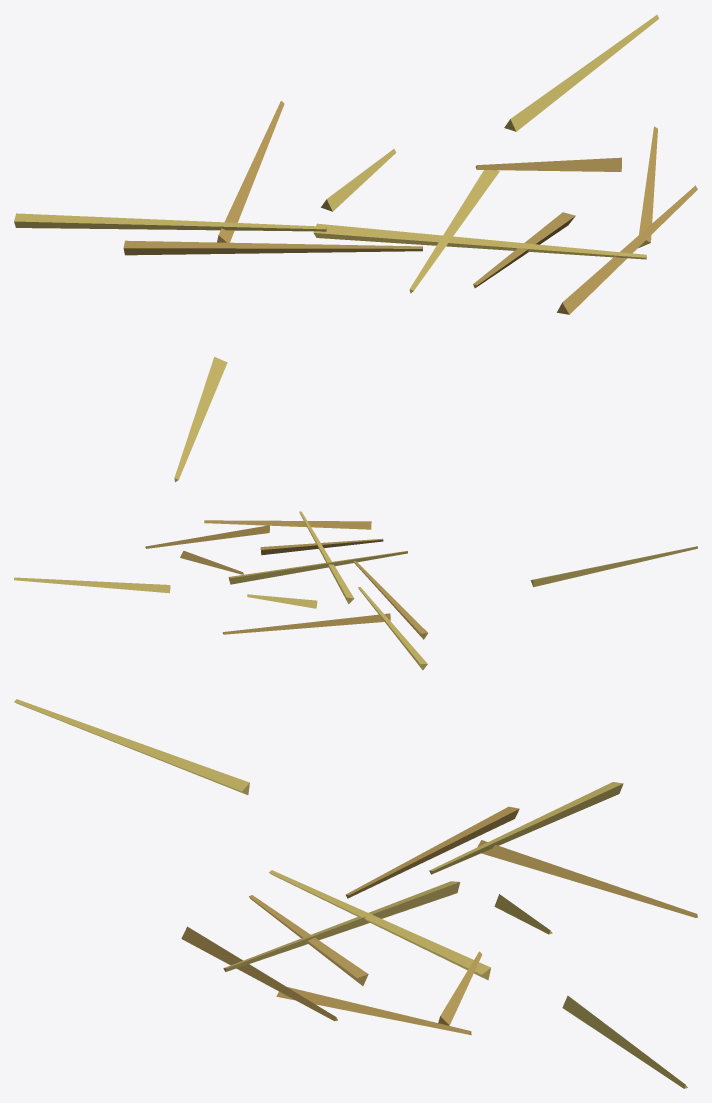
Rendered from cover_hay_scatter.glb.
The picture shows the model from 3 angles, top to bottom: view 1: azimuth 30°, elevation 25°; view 2: azimuth 150°, elevation 25°; view 3: azimuth 270°, elevation 25°; orthographic projection. The views are drawn at different scales.
Parts seen in each view (by area): view 1: cover_hay_scatter; view 2: cover_hay_scatter; view 3: cover_hay_scatter.
Boxes of the visible parts, x1,y1,x2,y2 form: cover_hay_scatter: (14,14,697,482); cover_hay_scatter: (14,511,697,669); cover_hay_scatter: (14,699,697,1088).
Size of the model in its own units: 1.38 by 0.0359 by 1.03.
